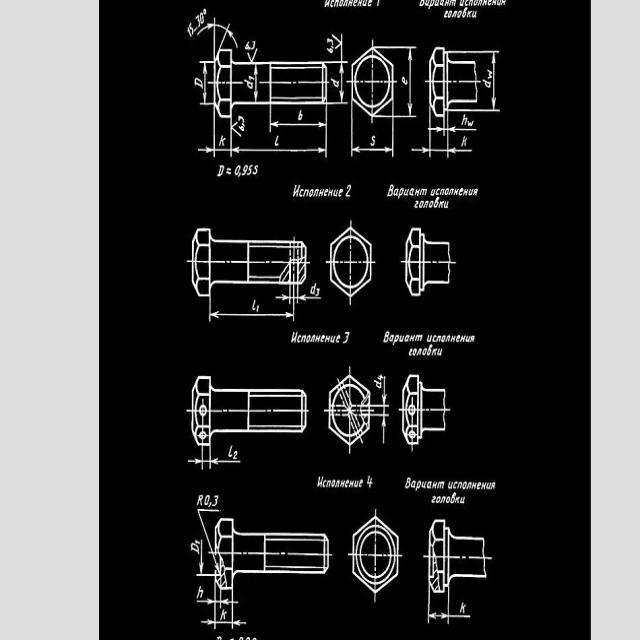marking_line: (197, 118, 329, 158), (228, 119, 328, 160), (209, 297, 297, 324), (411, 125, 474, 159), (196, 591, 247, 630), (350, 118, 396, 157), (269, 105, 328, 135), (395, 46, 417, 119), (478, 50, 499, 113), (371, 376, 389, 445), (187, 447, 243, 469), (447, 113, 474, 157), (197, 505, 215, 571), (411, 113, 434, 159), (197, 24, 239, 47), (447, 587, 472, 625), (328, 60, 349, 105), (198, 113, 217, 157), (427, 594, 450, 626), (446, 112, 477, 135), (197, 537, 214, 578), (209, 448, 242, 469), (198, 60, 213, 106), (370, 414, 389, 445), (296, 285, 322, 307), (372, 377, 390, 407), (451, 50, 500, 61), (451, 105, 500, 115), (197, 587, 217, 609), (219, 591, 240, 610), (188, 447, 204, 470), (272, 286, 292, 304), (332, 33, 344, 60), (428, 118, 447, 133), (254, 65, 259, 101), (246, 48, 258, 61), (212, 556, 220, 573)
numeric: (194, 77, 204, 89), (366, 475, 374, 490), (459, 600, 467, 615), (344, 184, 351, 198), (195, 15, 201, 29), (242, 164, 249, 176), (212, 494, 218, 507), (234, 165, 241, 176), (343, 331, 349, 343), (245, 40, 251, 51), (233, 450, 239, 461), (189, 23, 194, 35), (204, 494, 209, 506), (253, 165, 259, 175), (327, 38, 334, 46), (187, 27, 192, 38), (248, 164, 253, 175), (200, 12, 204, 25), (238, 115, 245, 122), (194, 538, 201, 545), (237, 125, 245, 131), (251, 41, 256, 50), (327, 47, 334, 53), (249, 75, 255, 82), (377, 374, 384, 380), (316, 287, 320, 297), (256, 304, 260, 313), (377, 0, 380, 7)
special_symbol: (203, 8, 206, 15)
